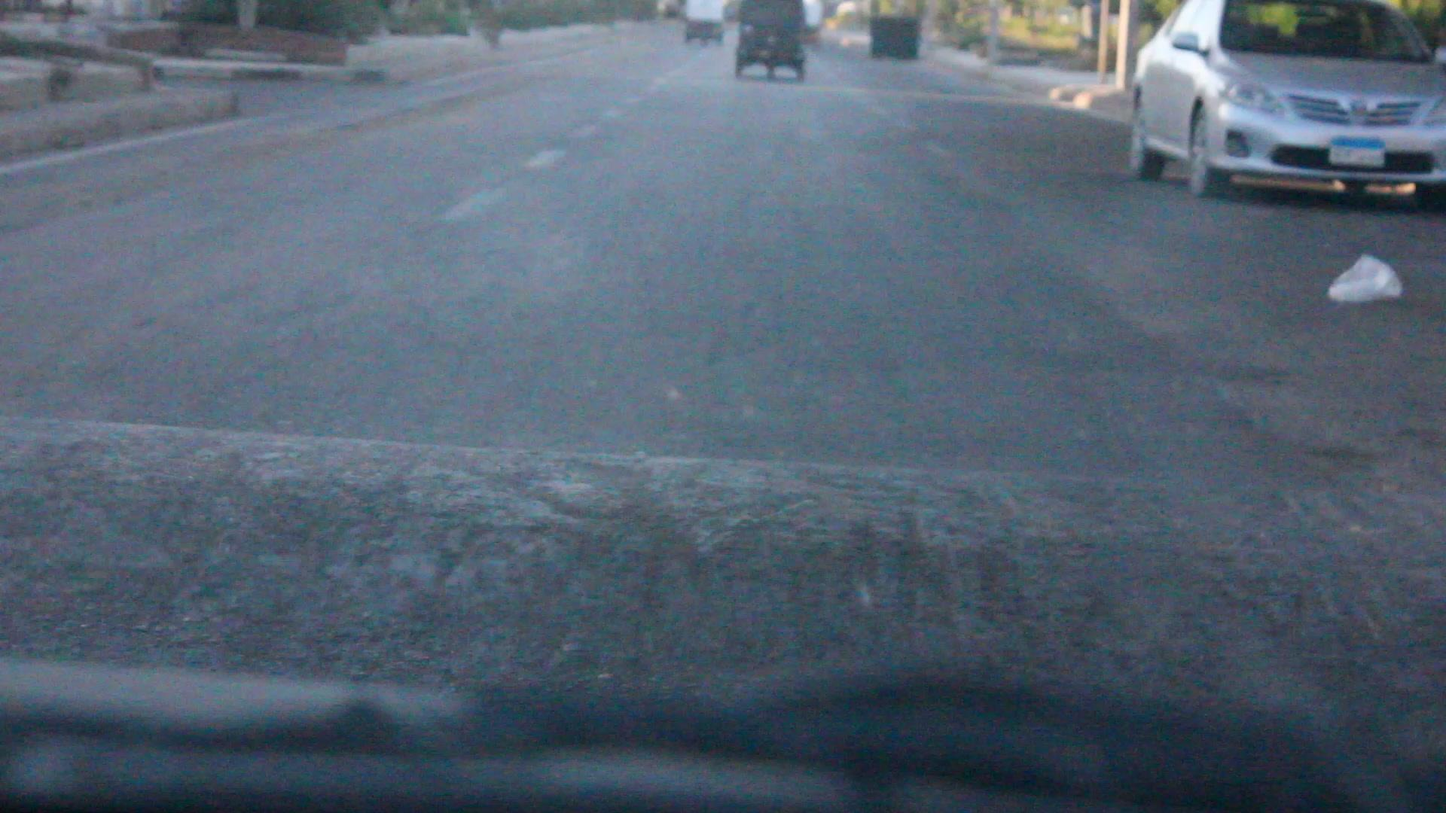Bump: (32, 403, 1406, 713)
